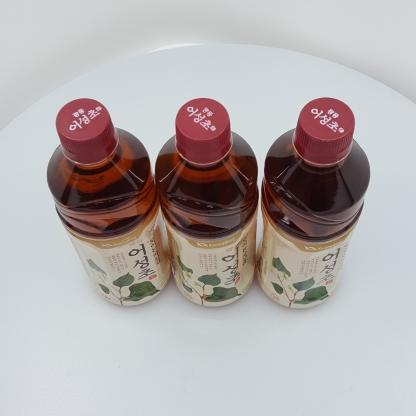--------500ml: (47, 98, 172, 306), (255, 97, 370, 308), (155, 98, 259, 307)
